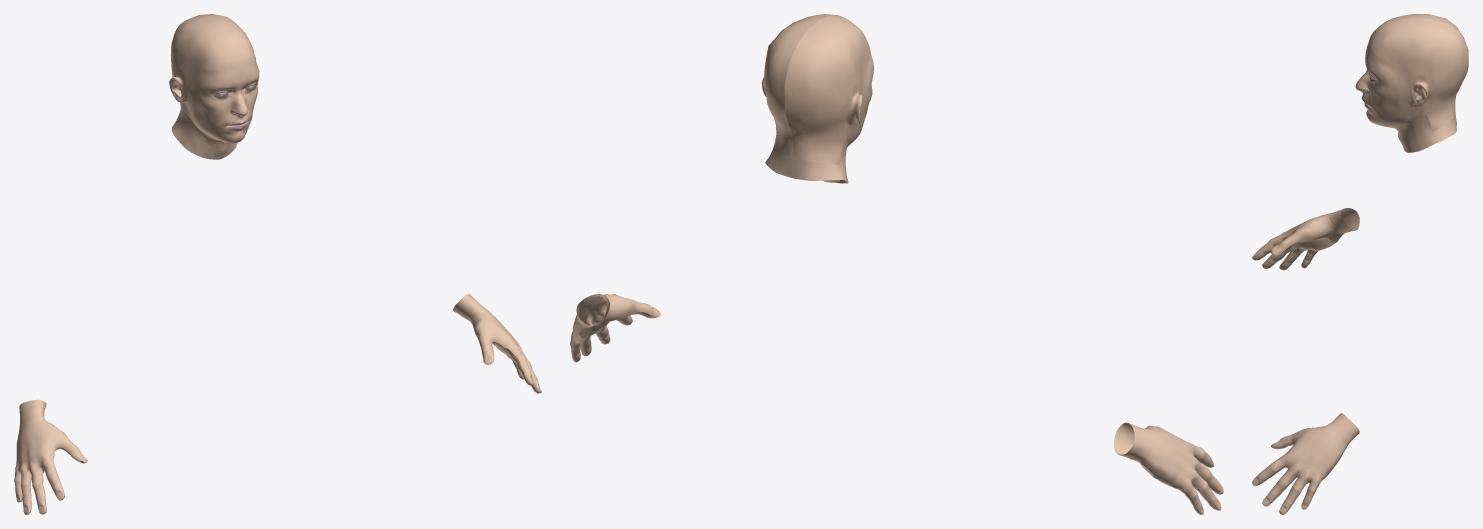
File: body_outfit_shoes.glb
3 views of the same model, side by side, from view 1: azimuth 30°, elevation 25°; view 2: azimuth 150°, elevation 25°; view 3: azimuth 270°, elevation 25° (orthographic). The views are drawn at different scales.
Parts seen in each view (by area): view 1: Body; view 2: Body; view 3: Body.
Part boxes in pixels (x1,y1,x2,y2): Body: [14, 14, 541, 514]; Body: [570, 14, 1223, 514]; Body: [1252, 14, 1468, 514].
Bounding box in the file's own units: 1.14 × 0.805 × 0.4227.
